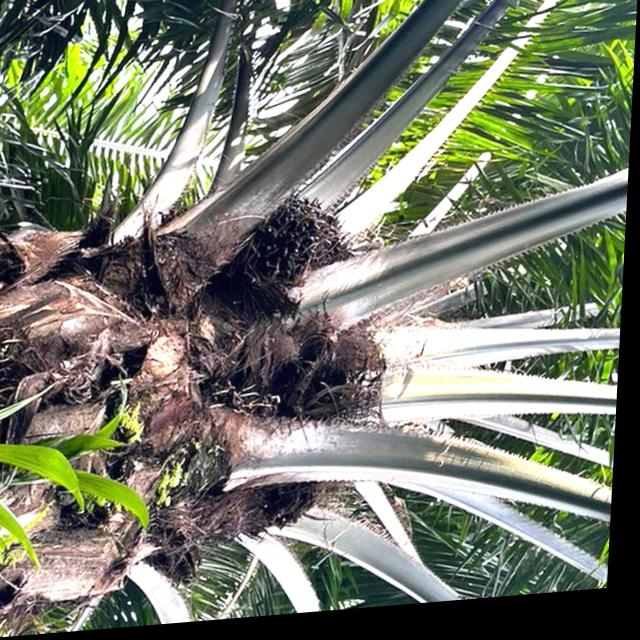almost: (229, 195, 337, 318)
